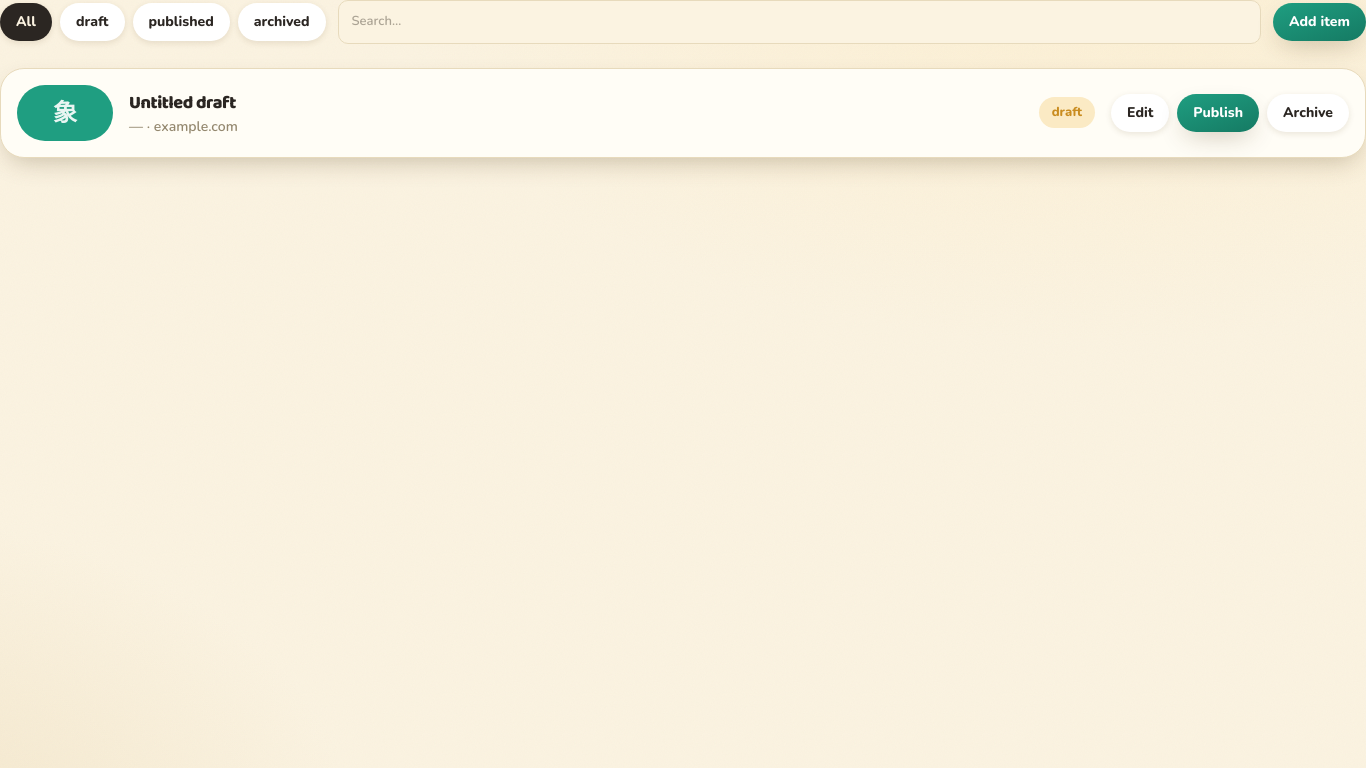
AdminNewsScreen › opens the editor when list-row Publish fails client validation
Click the button "Publish" at (1218, 112), box [1177,94,1259,132]
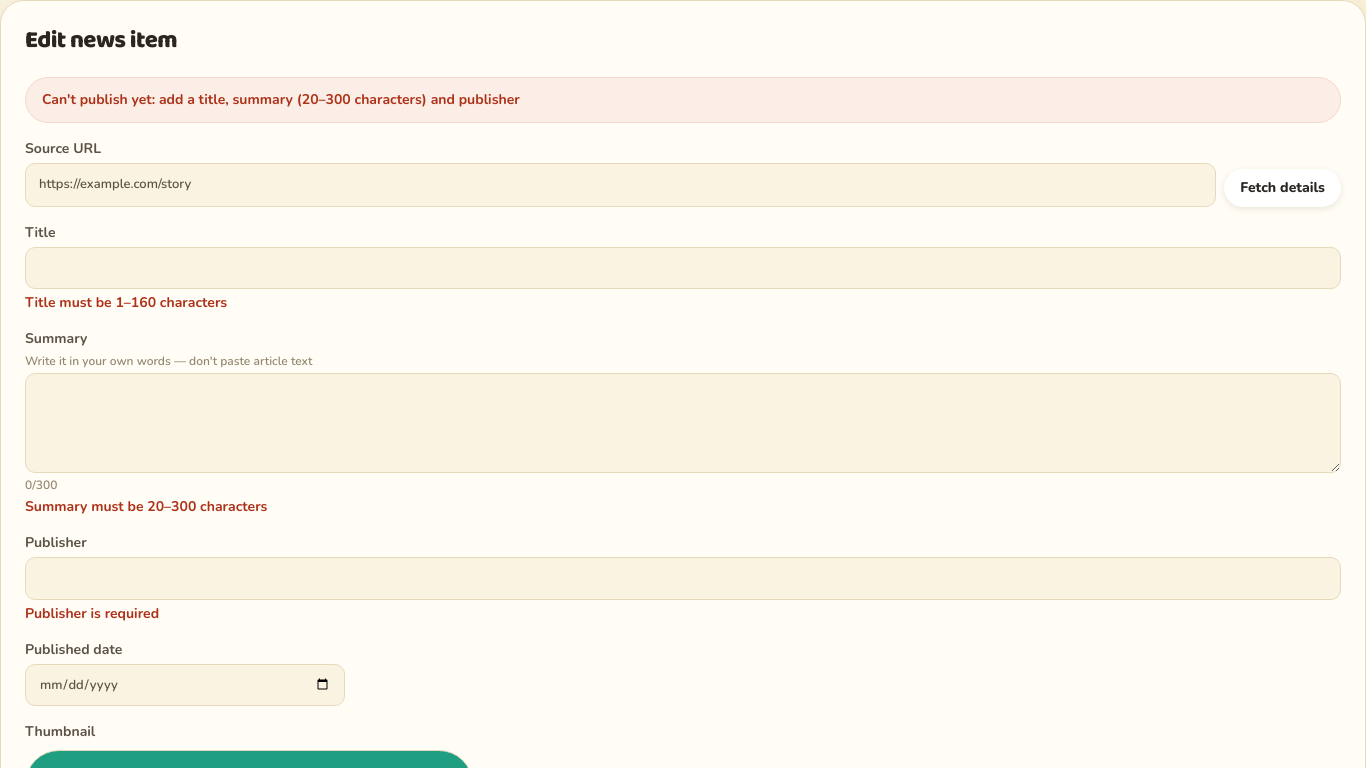
Now the heading "Edit news item" is shown, box [25,21,177,60]
Now the message reads "Can't publish yet: add a title, summary (20–300 characters) and publisher", box [42,90,520,109]
Now the text "Title must be 1–160 characters" is shown, box [25,293,227,312]
